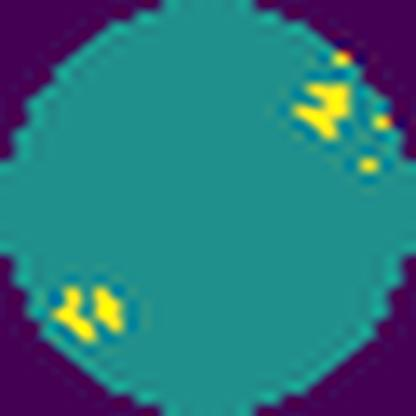Loc: (54, 280, 131, 348), (284, 72, 354, 143)
